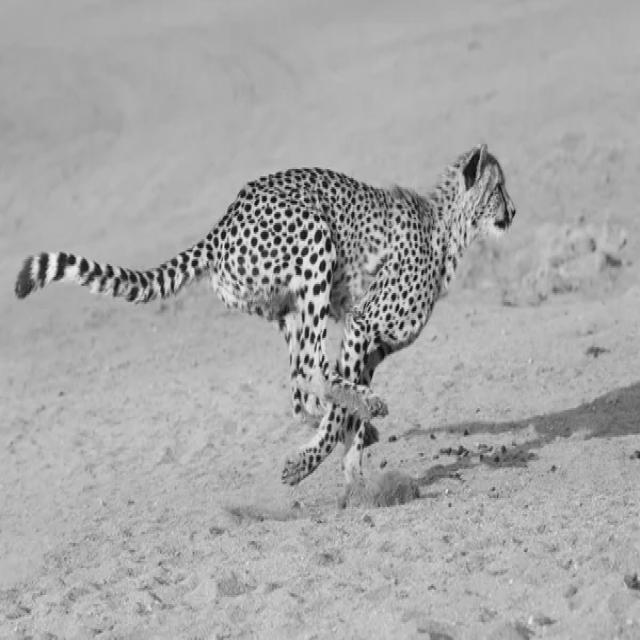Animal: (15, 144, 516, 484)
